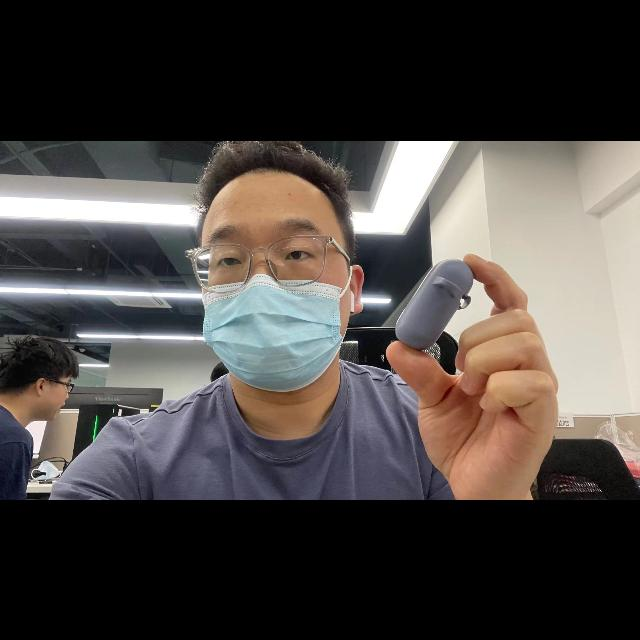airpods: (395, 257, 474, 352)
